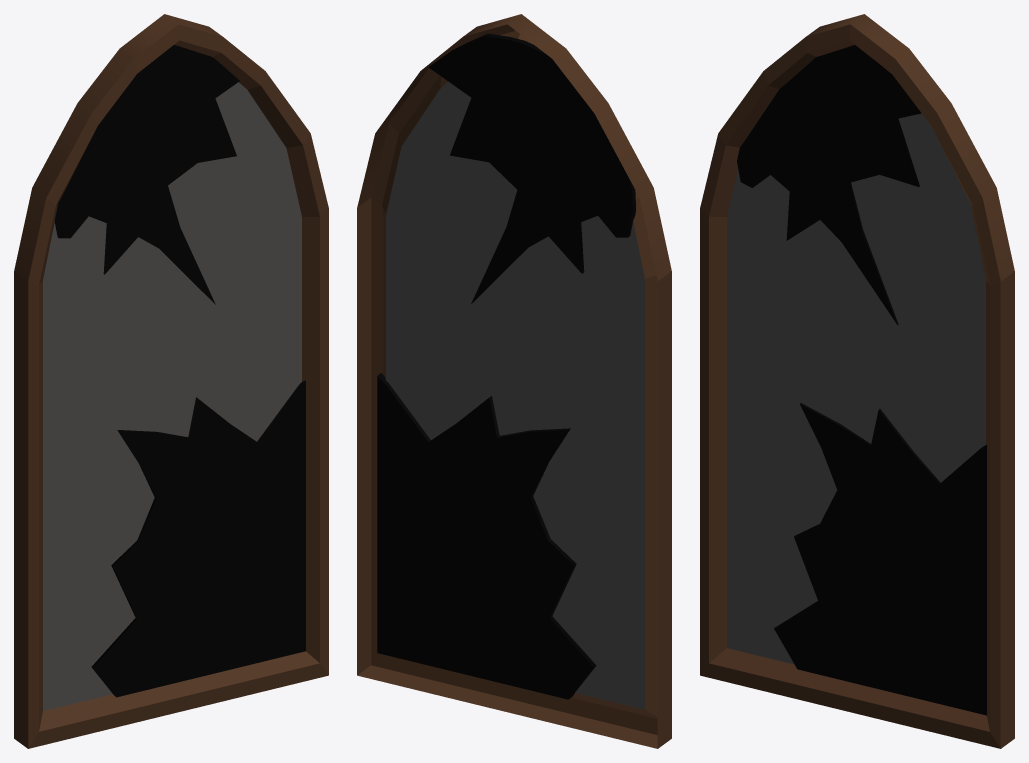
File: VentanaChicaRota.fbx
3 renders of one model, left to right at view 1: azimuth 30°, elevation 25°; view 2: azimuth 150°, elevation 25°; view 3: azimuth 330°, elevation 25°, orthographic.
Visible parts, largest first — view 1: VentanaChicaRota; view 2: VentanaChicaRota; view 3: VentanaChicaRota.
Part boxes in pixels (box(x1,y1,x2,y2)): VentanaChicaRota: box(14, 14, 328, 748); VentanaChicaRota: box(357, 14, 671, 748); VentanaChicaRota: box(700, 14, 1014, 748).
Size of the model in its own units: 88.9 by 194 by 7.72.
